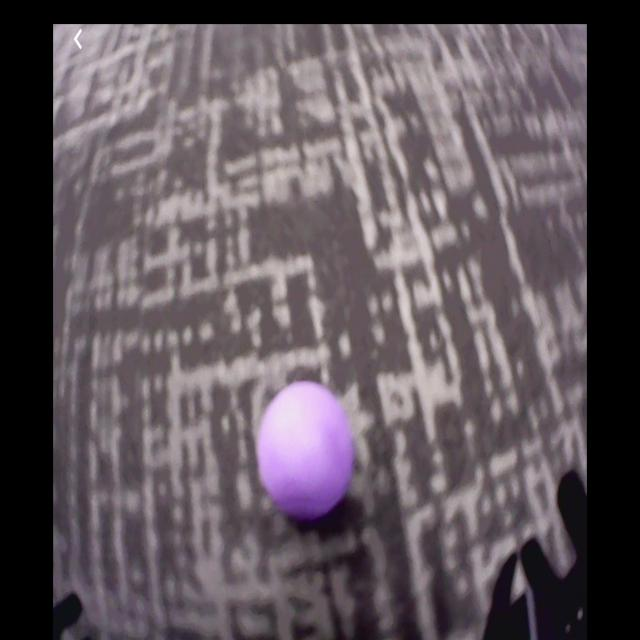ball: (259, 382, 352, 520)
